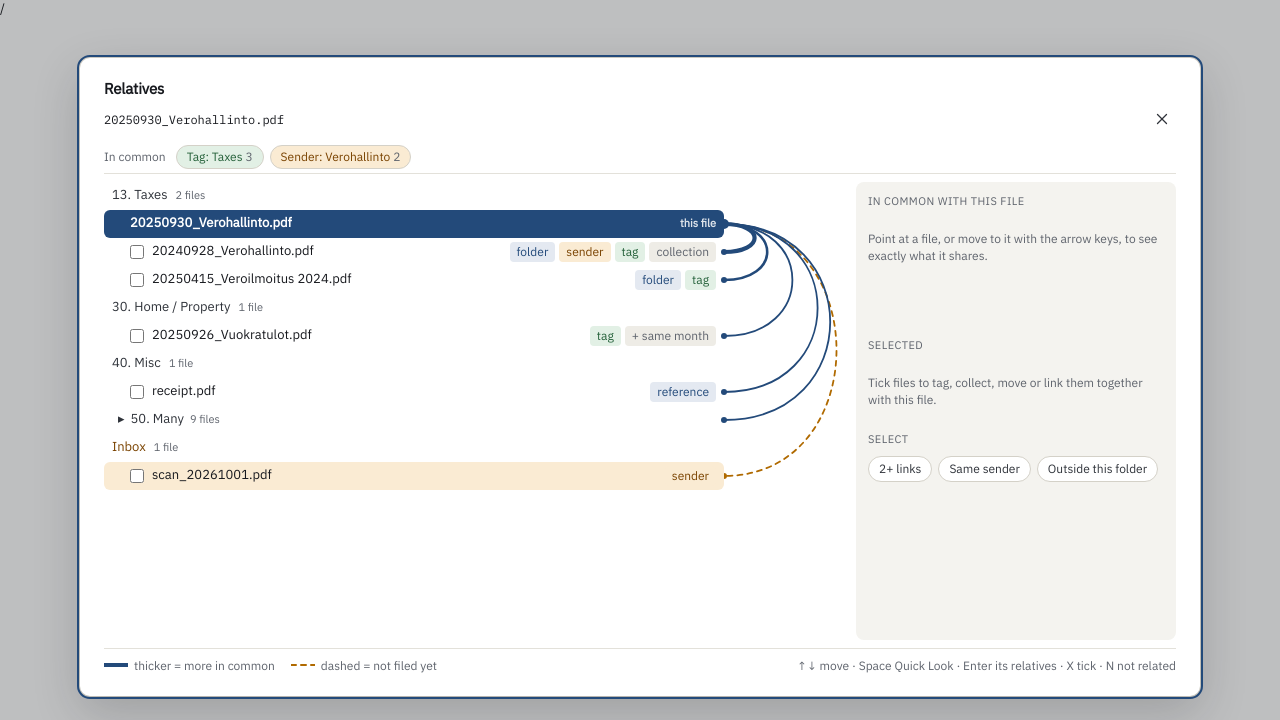
Test: the outline › folds a folder with more than eight relatives to a count and opens it on click
Expected: the checkbox named "Select receipt.pdf" is shown, [130, 385, 144, 399]
Click the button "50. Many 9 files": (169, 420) [112, 410, 226, 429]
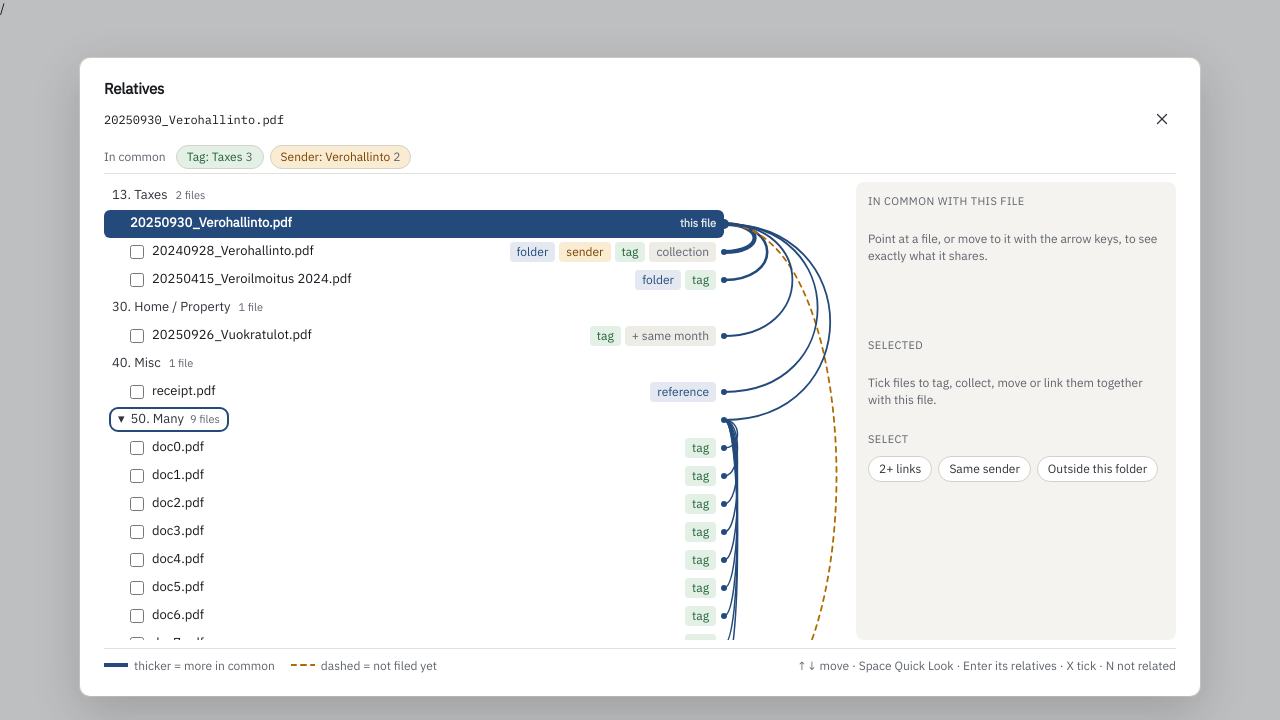
Result: the checkbox named "Select doc0.pdf" is shown at [130, 441, 144, 455]
